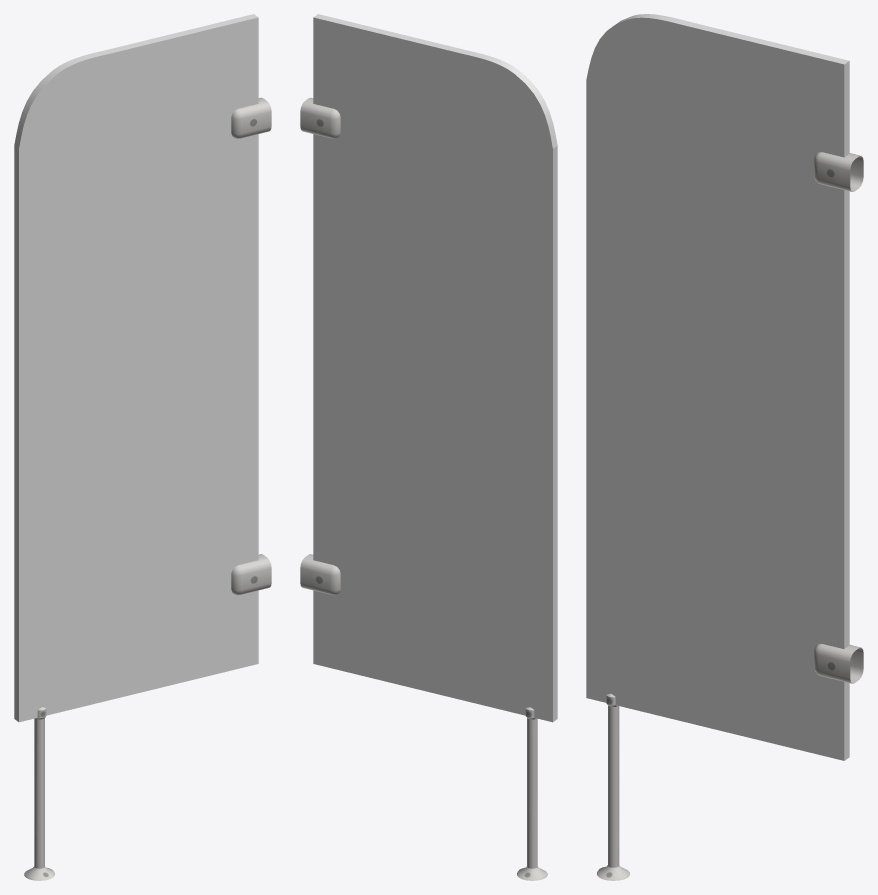
The model's file is UrinalScreen01.FBX.
The picture shows the model from 3 angles, left to right: view 1: azimuth 30°, elevation 25°; view 2: azimuth 150°, elevation 25°; view 3: azimuth 330°, elevation 25°; orthographic projection. The views are drawn at different scales.
Parts seen in each view (by area): view 1: UrinalScreen01; view 2: UrinalScreen01; view 3: UrinalScreen01.
Part boxes in pixels (box(x1,y1,x2,y2)): UrinalScreen01: box(14, 14, 271, 880); UrinalScreen01: box(300, 14, 557, 880); UrinalScreen01: box(586, 14, 863, 880).
Size of the model in its own units: 48.79 by 151 by 5.21.
